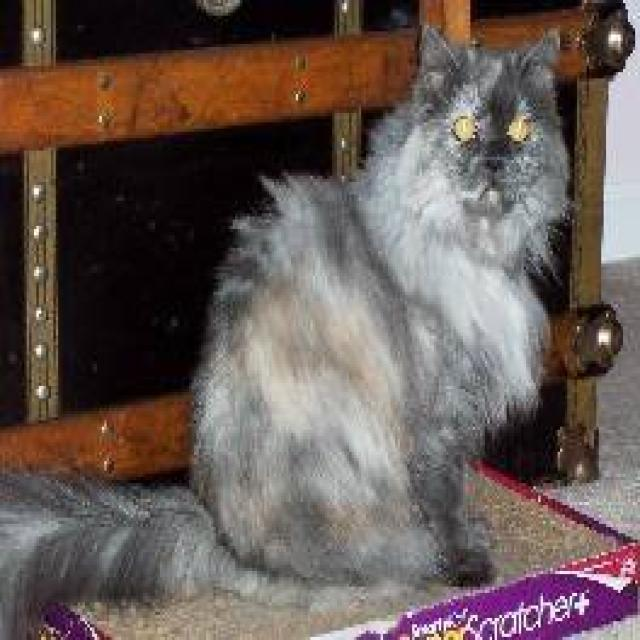cat: (0, 22, 572, 637)
